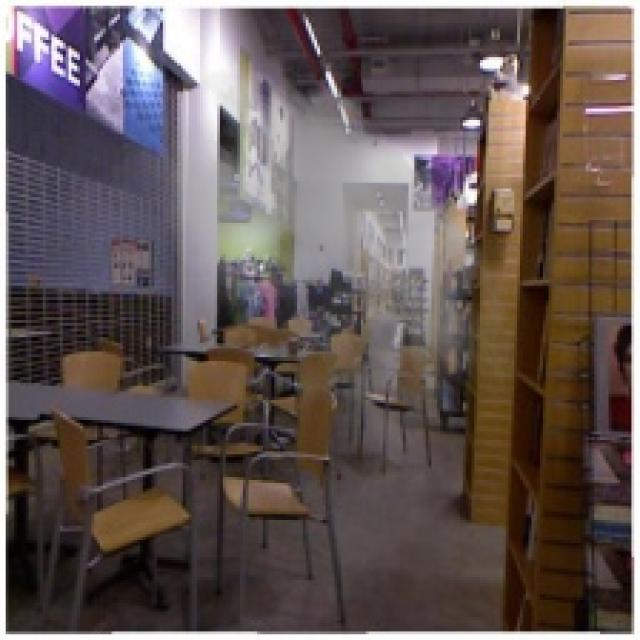smoke: (143, 54, 526, 463)
